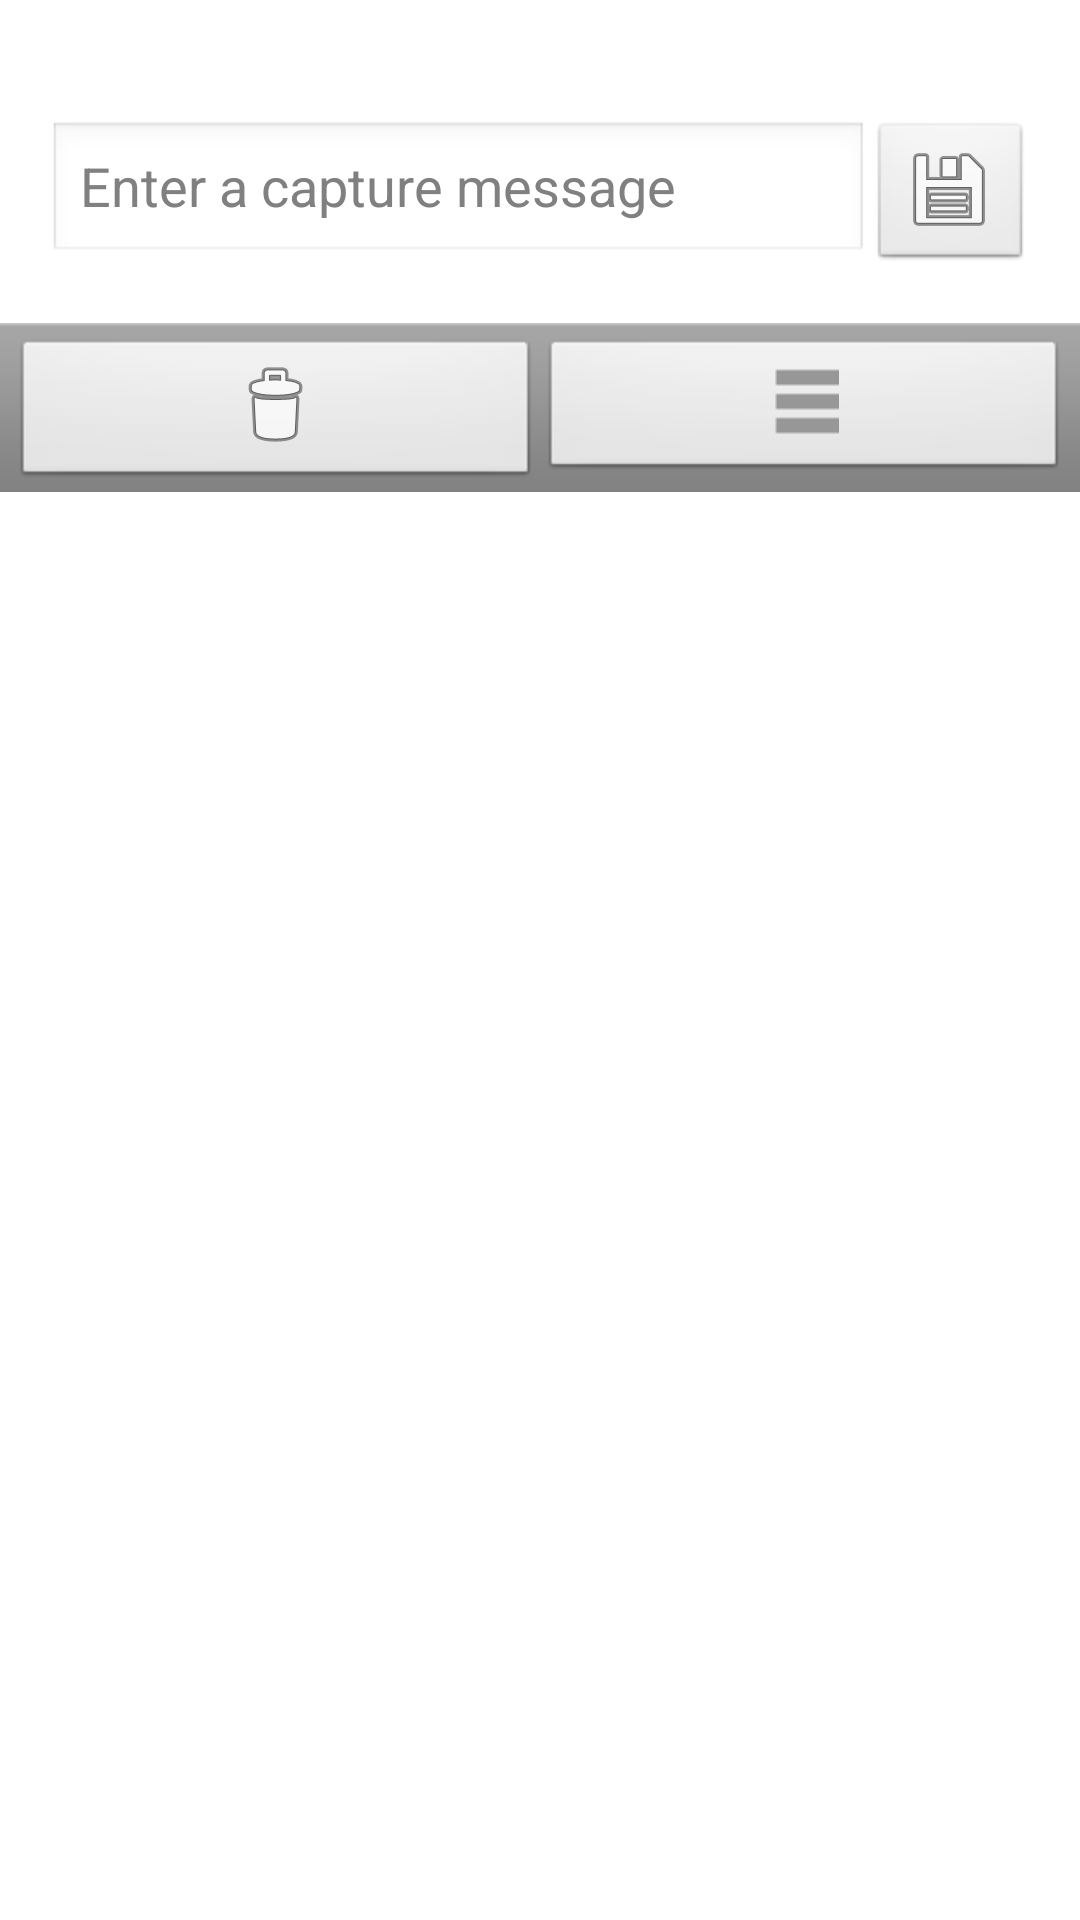

Icons on this 1080*1920 Android screen, each with the point to tap as point (x, y):
save: point (950, 191)
